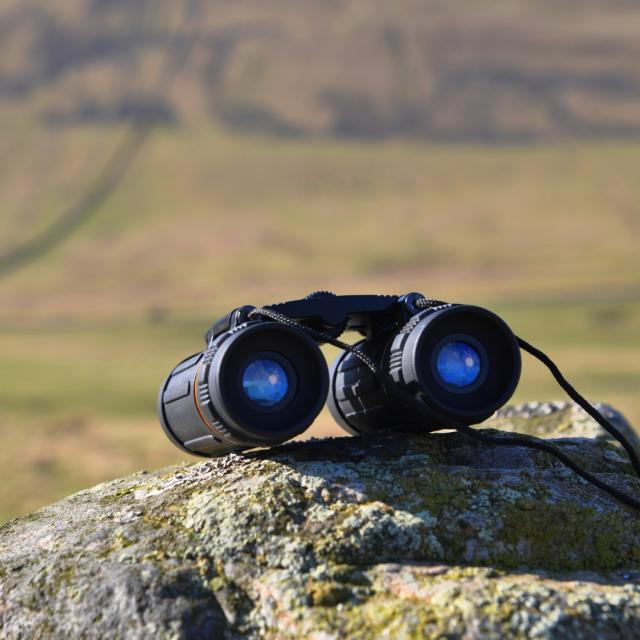Binocular: (144, 281, 542, 462)
